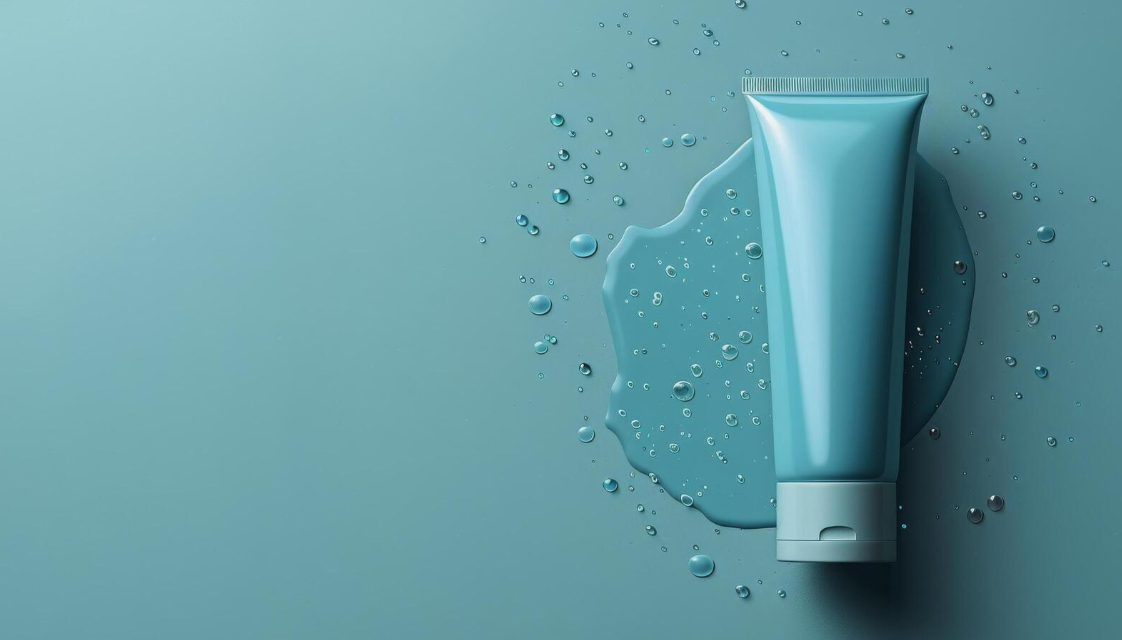Toothpaste: (711, 58, 958, 595)
